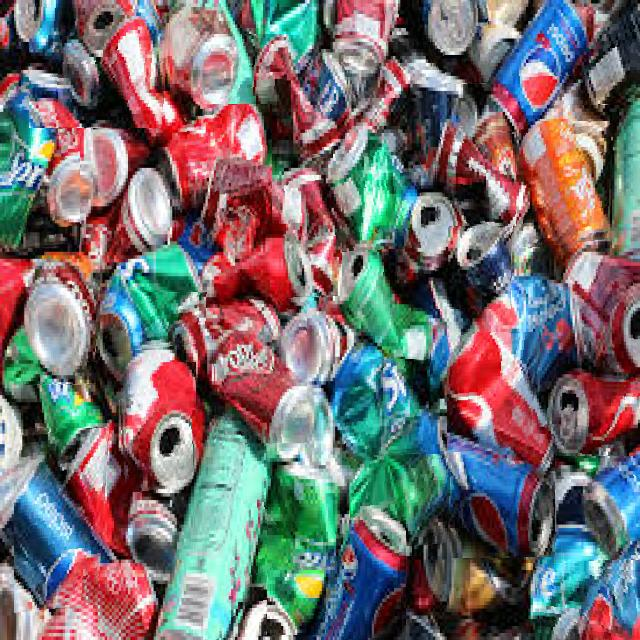Cans: (29, 0, 171, 128), (14, 428, 110, 614), (192, 410, 267, 640), (211, 281, 307, 443), (440, 434, 555, 558), (0, 82, 80, 250), (172, 104, 272, 237), (523, 121, 614, 249), (447, 332, 542, 454), (268, 455, 326, 635), (117, 362, 196, 493), (418, 202, 513, 309), (350, 454, 452, 550), (342, 354, 431, 460), (330, 520, 406, 640), (333, 150, 421, 251), (354, 249, 432, 359), (566, 268, 640, 382), (434, 124, 516, 226), (503, 8, 589, 105), (534, 562, 640, 640), (21, 274, 96, 384), (274, 180, 342, 298), (345, 0, 426, 98), (537, 382, 640, 456), (559, 467, 640, 561), (103, 292, 207, 354), (203, 34, 289, 100), (429, 0, 488, 85), (306, 53, 346, 158), (596, 24, 640, 105)
